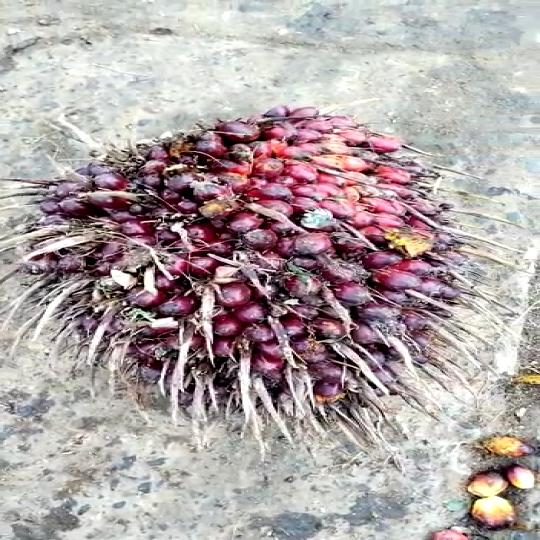masak: (20, 105, 466, 414)
